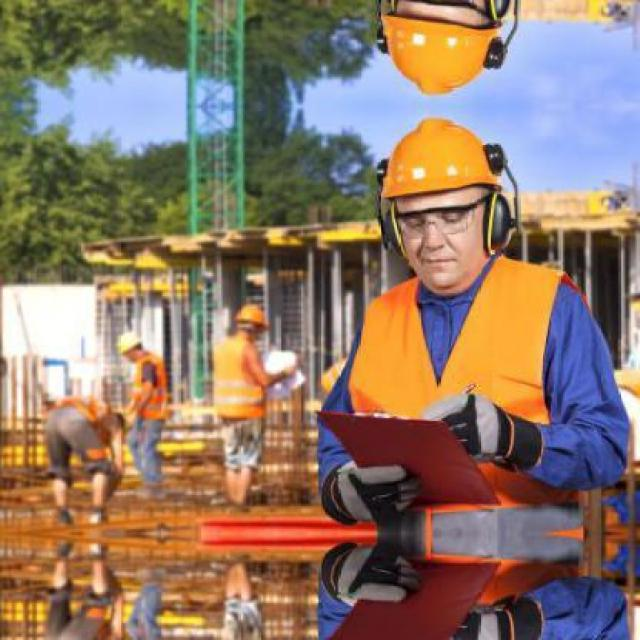Reflective-Jacket: (326, 254, 586, 543), (205, 336, 272, 429), (123, 352, 174, 428)
Safety-Helmet: (360, 112, 522, 218), (223, 298, 274, 338), (112, 324, 148, 358)
